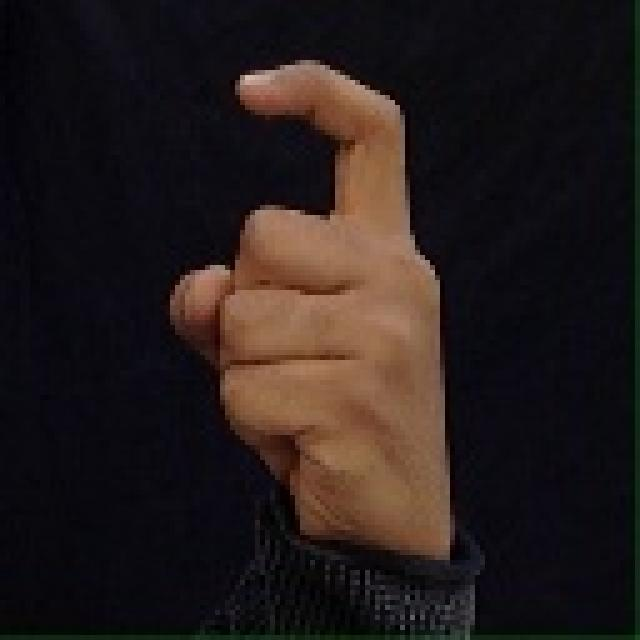Numeric-7: (163, 50, 469, 602)
